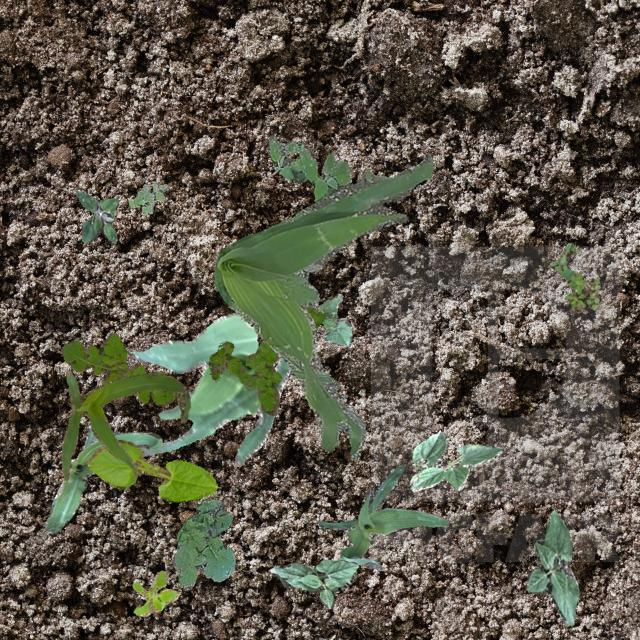crop: (130, 312, 288, 466), (60, 370, 190, 480), (318, 464, 448, 568), (44, 419, 160, 532), (86, 438, 218, 501), (526, 508, 578, 624), (408, 430, 502, 490), (268, 558, 358, 608), (318, 294, 350, 346)
weed: (213, 154, 432, 460), (208, 306, 324, 414), (60, 332, 174, 406), (266, 134, 386, 200), (172, 498, 234, 588), (548, 242, 598, 312), (75, 188, 116, 242), (132, 570, 178, 616), (128, 180, 168, 213)
